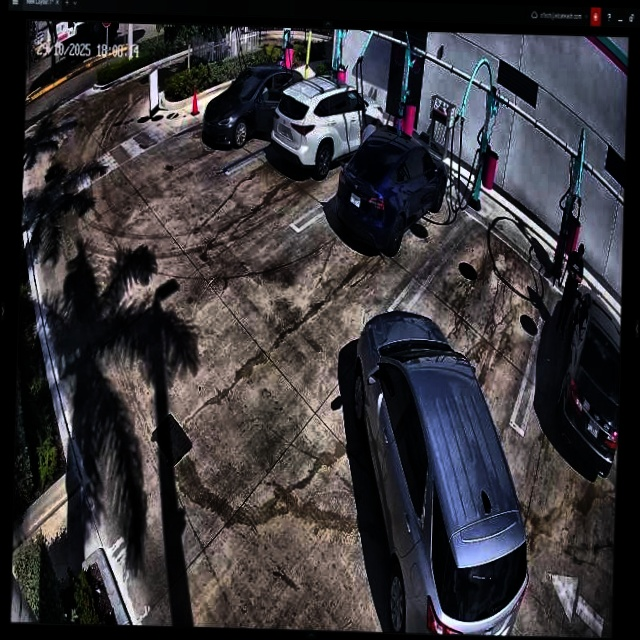Car: (347, 293, 529, 638), (332, 129, 448, 255), (271, 80, 384, 167), (199, 67, 305, 153)
